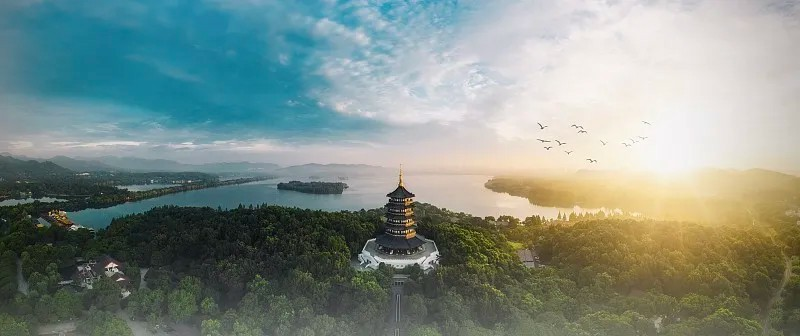Leifeng: (374, 162, 426, 258)
